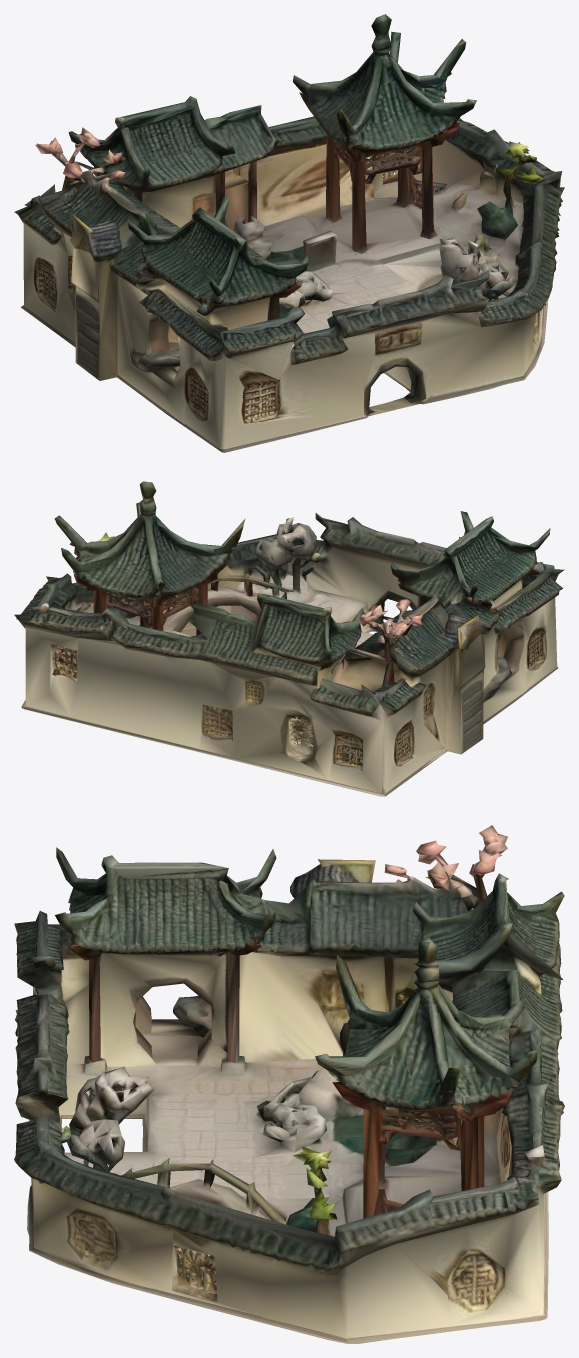
The model's file is jinling.glb.
3 renders of one model, top to bottom at view 1: azimuth 30°, elevation 25°; view 2: azimuth 150°, elevation 25°; view 3: azimuth 270°, elevation 25°, orthographic. The views are drawn at different scales.
Parts seen in each view (by area): view 1: tripo_node_9cbe71fc-e77c-4925-83e4-95104654039e; view 2: tripo_node_9cbe71fc-e77c-4925-83e4-95104654039e; view 3: tripo_node_9cbe71fc-e77c-4925-83e4-95104654039e.
Part boxes in pixels (x1,y1,x2,y2): tripo_node_9cbe71fc-e77c-4925-83e4-95104654039e: (14, 14, 564, 452); tripo_node_9cbe71fc-e77c-4925-83e4-95104654039e: (14, 481, 564, 796); tripo_node_9cbe71fc-e77c-4925-83e4-95104654039e: (14, 825, 564, 1343).
Size of the model in its own units: 23.99 by 11.63 by 18.21.
1 material, 1 textured.
